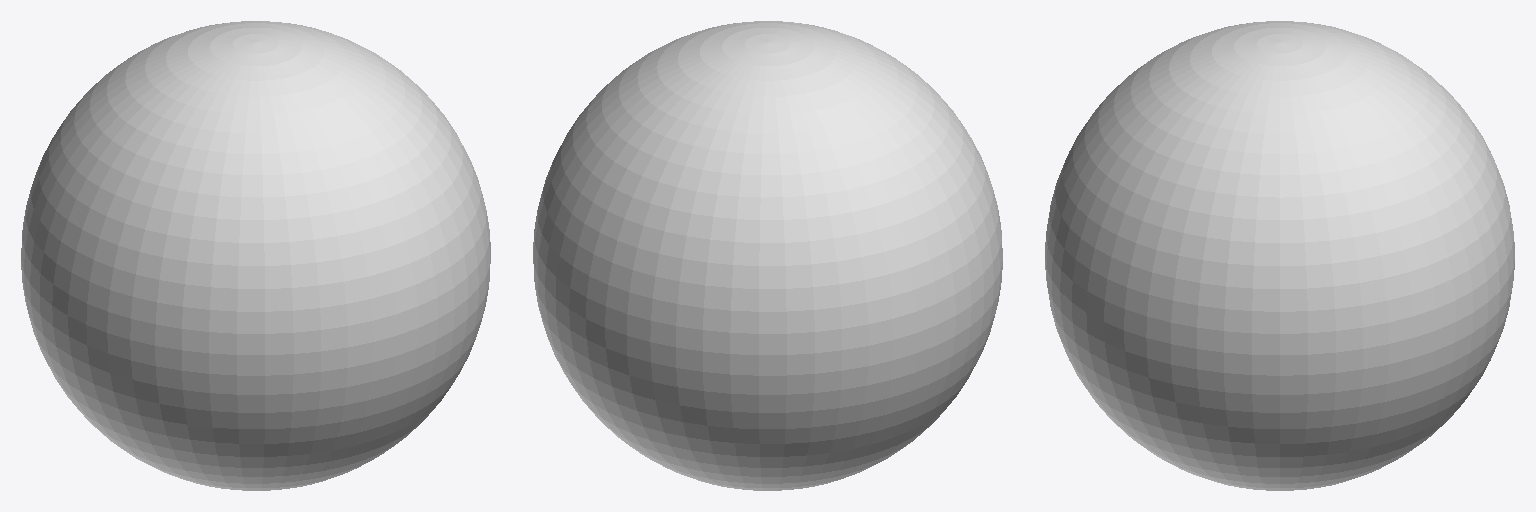
The model's file is jupiter.obj.
3 views of the same model, side by side, from view 1: azimuth 30°, elevation 25°; view 2: azimuth 150°, elevation 25°; view 3: azimuth 270°, elevation 25° (orthographic).
Visible parts, largest first — view 1: Sphere; view 2: Sphere; view 3: Sphere.
Boxes of the visible parts, <box> form: Sphere: <box>21,21,490,490</box>; Sphere: <box>533,21,1002,490</box>; Sphere: <box>1045,21,1514,490</box>.
Size of the model in its own units: 2 by 2 by 2.